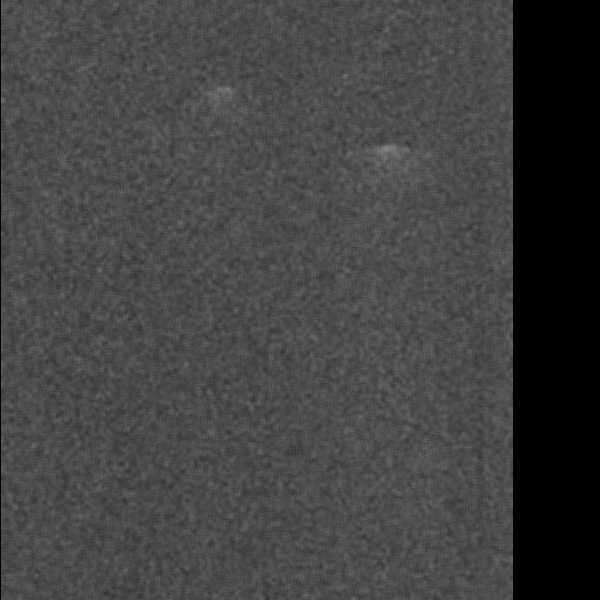spark: (56, 181, 117, 286), (225, 15, 285, 70), (447, 500, 484, 566), (7, 468, 35, 548), (211, 455, 243, 520)
